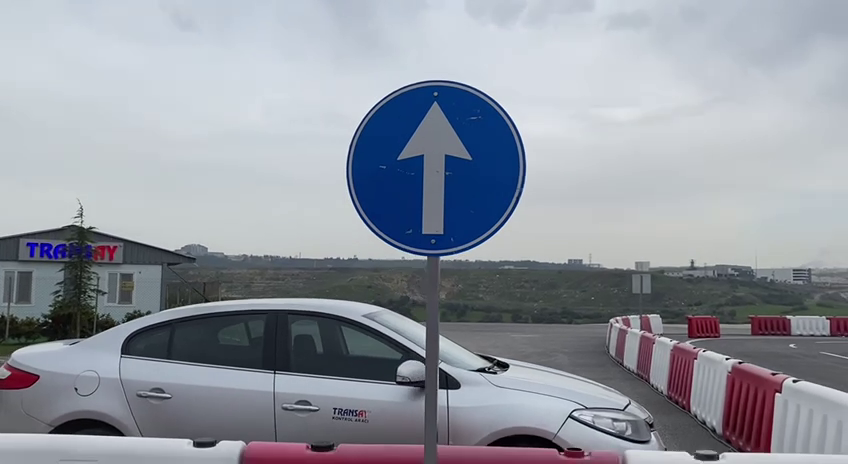forward: (341, 74, 531, 261)
